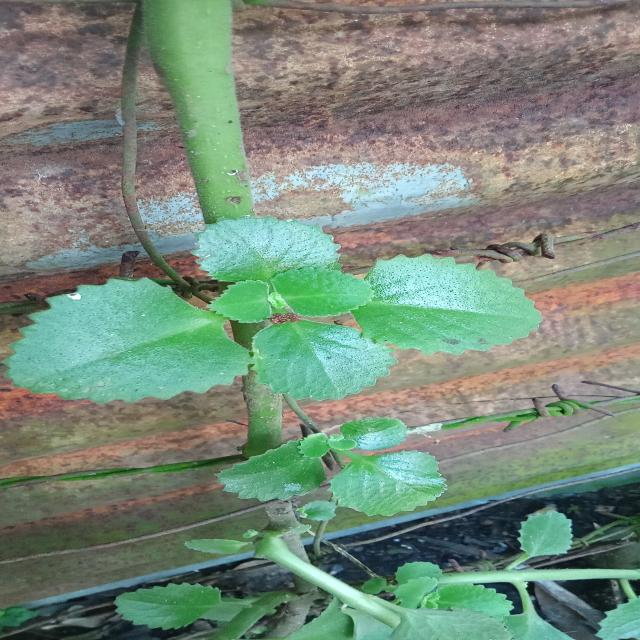Oregano: (0, 216, 640, 422), (165, 417, 500, 526), (380, 563, 640, 640), (80, 568, 257, 628), (487, 503, 609, 560)
